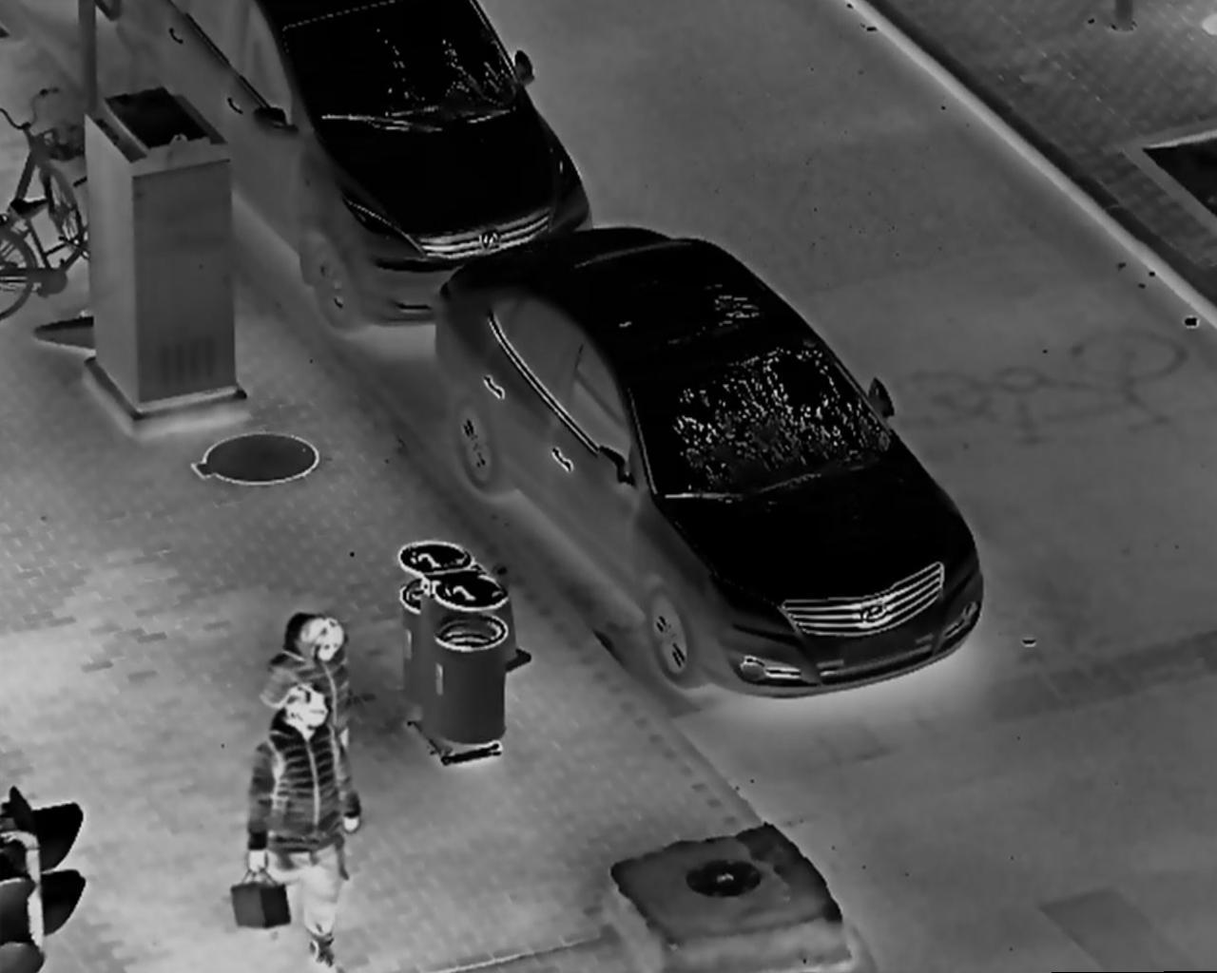person: (239, 683, 361, 973), (257, 588, 368, 821)
